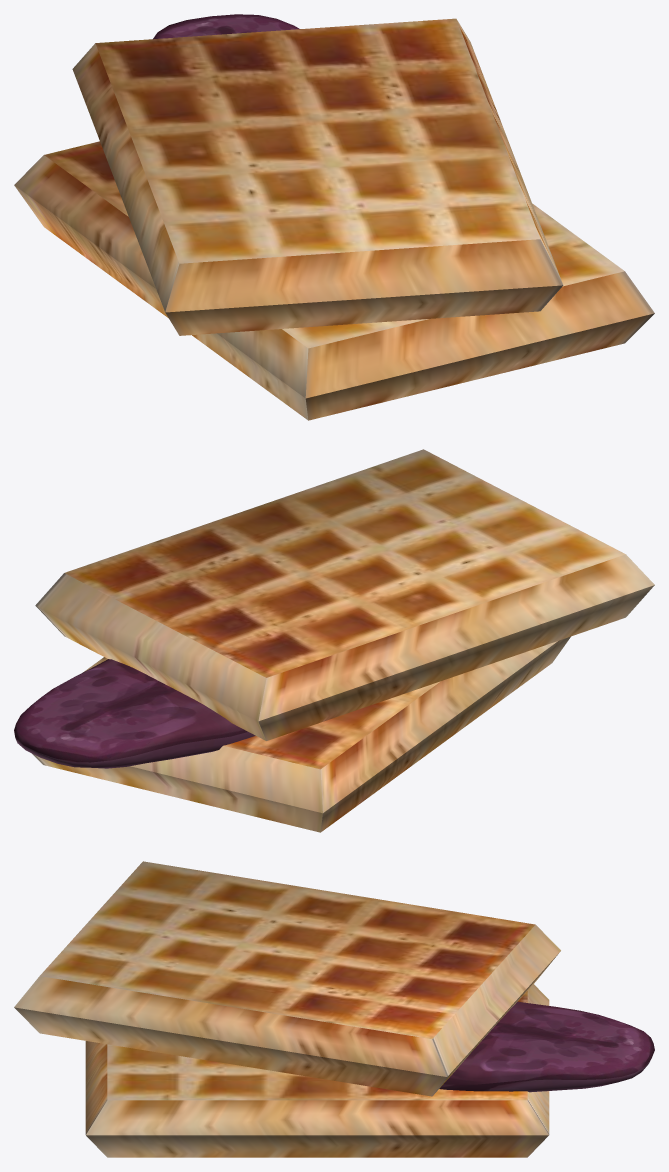
File: Waffle_Z.fbx
The picture shows the model from 3 angles, top to bottom: view 1: azimuth 30°, elevation 25°; view 2: azimuth 150°, elevation 25°; view 3: azimuth 270°, elevation 25°; orthographic projection. The views are drawn at different scales.
Visible parts, largest first — view 1: Waffle_Z; view 2: Waffle_Z; view 3: Waffle_Z.
Boxes of the visible parts, <box> form: Waffle_Z: <box>14,14,654,420</box>; Waffle_Z: <box>14,449,654,832</box>; Waffle_Z: <box>14,861,654,1157</box>.
Size of the model in its own units: 23.87 by 7.5 by 32.95.
